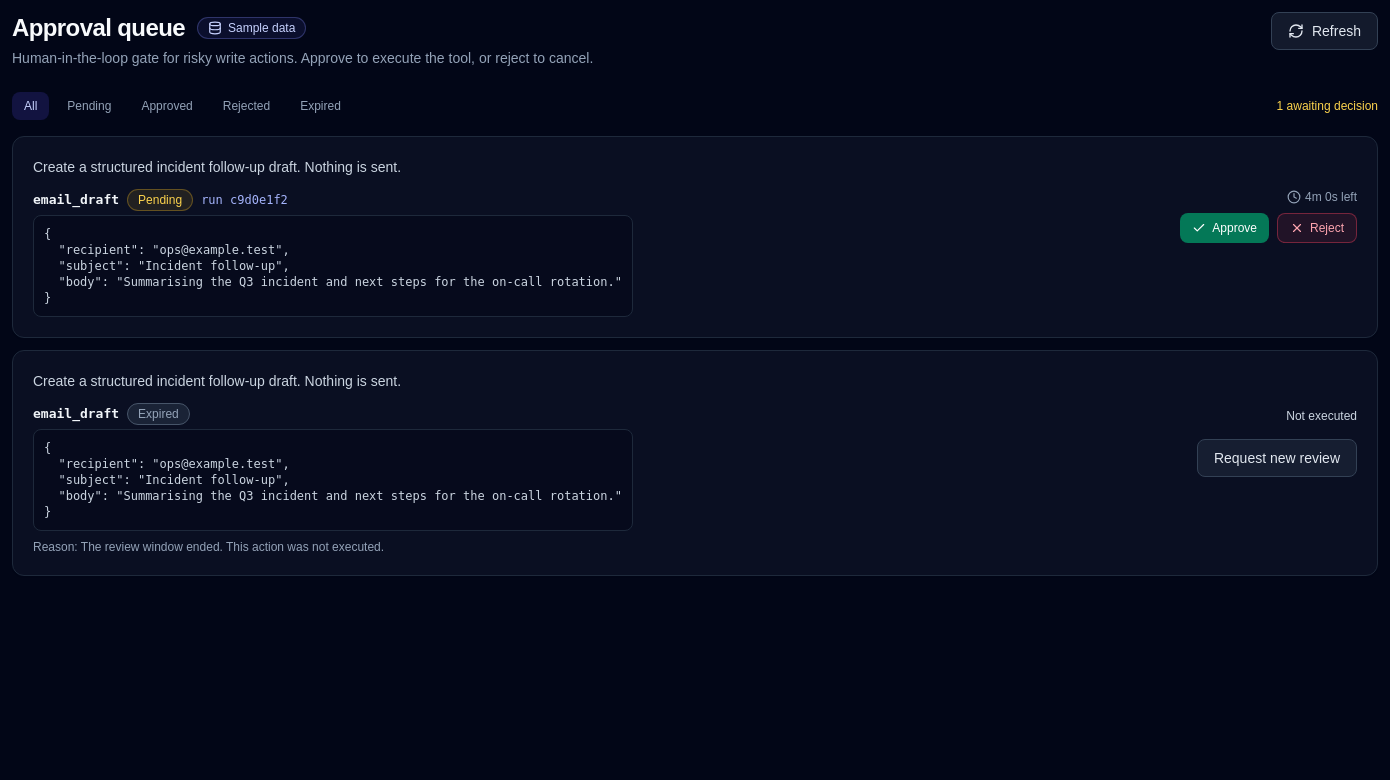
Test: authoritative approval outcomes › reports expiry returned during an approve request without a success notice
The image size is (1390, 780).
Expected: the element with test id "approval-list" is shown, [12,136,1378,576]
Click the button "Approve" at [1225, 228], box [1180,213,1269,243]
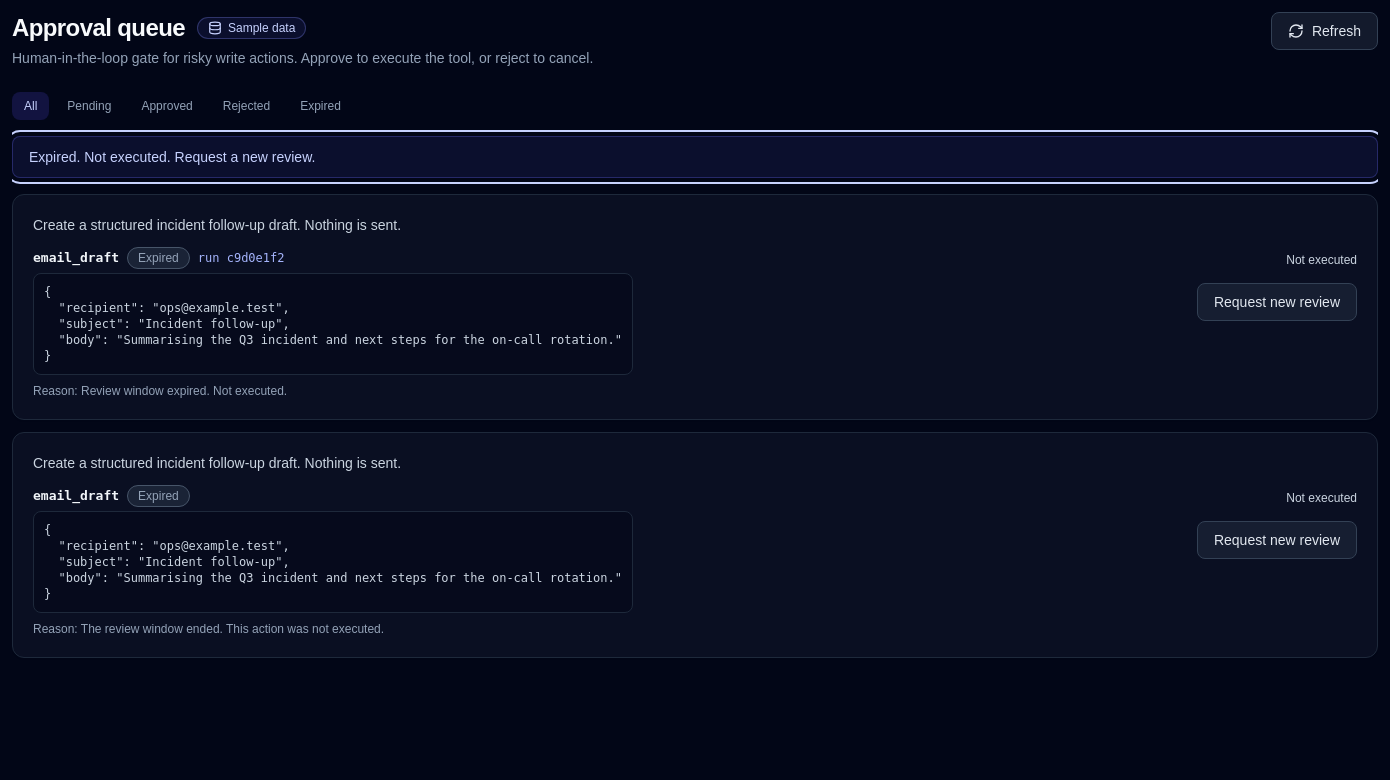
Result: the message shows "Expired. Not executed." at [29,149,315,165]
